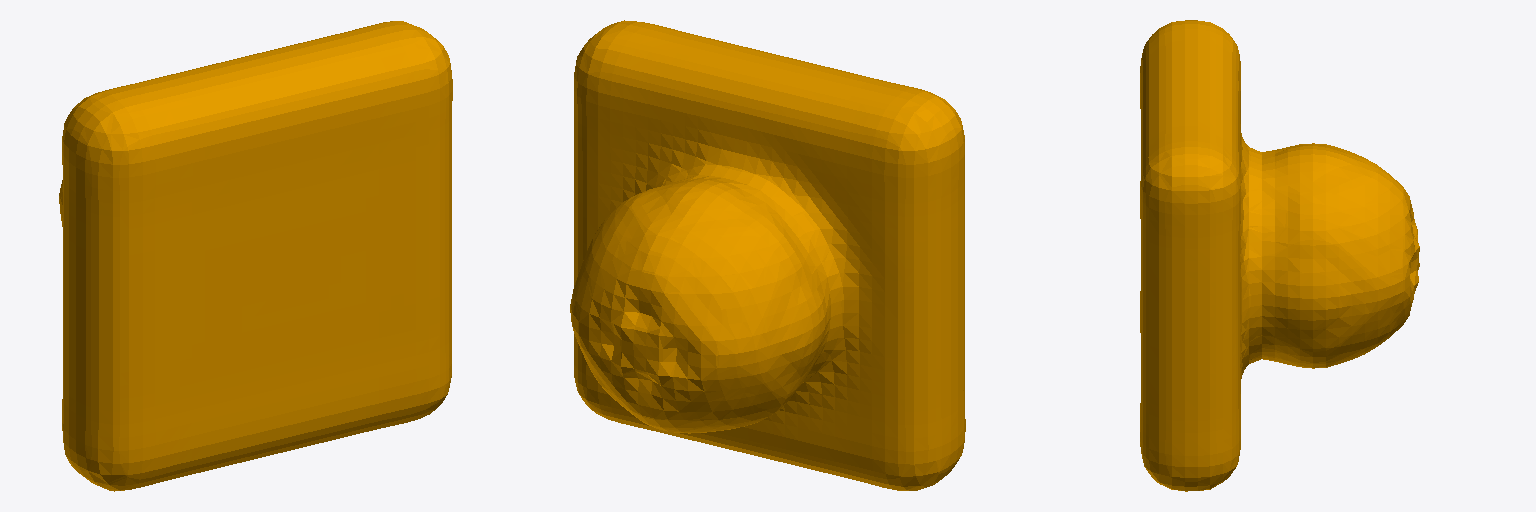
robot.urdf — R08_0:
<?xml version="1.0"?>
<robot name="R08_0">
  <link name="base_link">
    <visual>
      <geometry>
        <mesh filename="../../../../meshes/egad/train/R08_0.obj" />
      </geometry>
    </visual>
  </link>
</robot>

--- What the picture shows (computed from the rendered views, not written in the file) ---
Views: 3 orthographic renders of the robot side by side, from view 1: azimuth 30°, elevation 25°; view 2: azimuth 150°, elevation 25°; view 3: azimuth 270°, elevation 25°.
Model R08_0 with 1 links and 0 joints (none), rooted at base_link, posed all joints at 0.
Links seen in each view (by area): view 1: base_link; view 2: base_link; view 3: base_link.
Boxes of the visible links, box(x1,y1,x2,y2) form: base_link: box(59, 21, 452, 491); base_link: box(570, 20, 965, 490); base_link: box(1140, 20, 1419, 491).
Size in the robot's own frame: 0.075 by 0.0557 by 0.075 metres.
1 mesh visuals loaded from 1 distinct referenced files (1 OBJ).